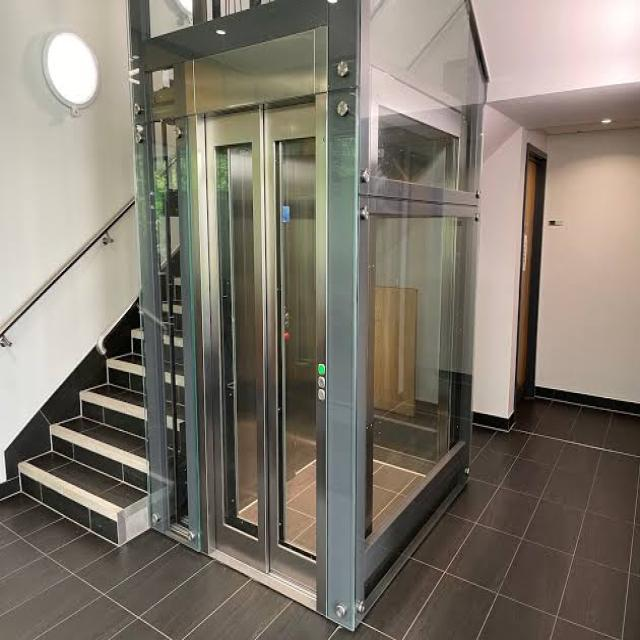elevator: (176, 17, 350, 624)
